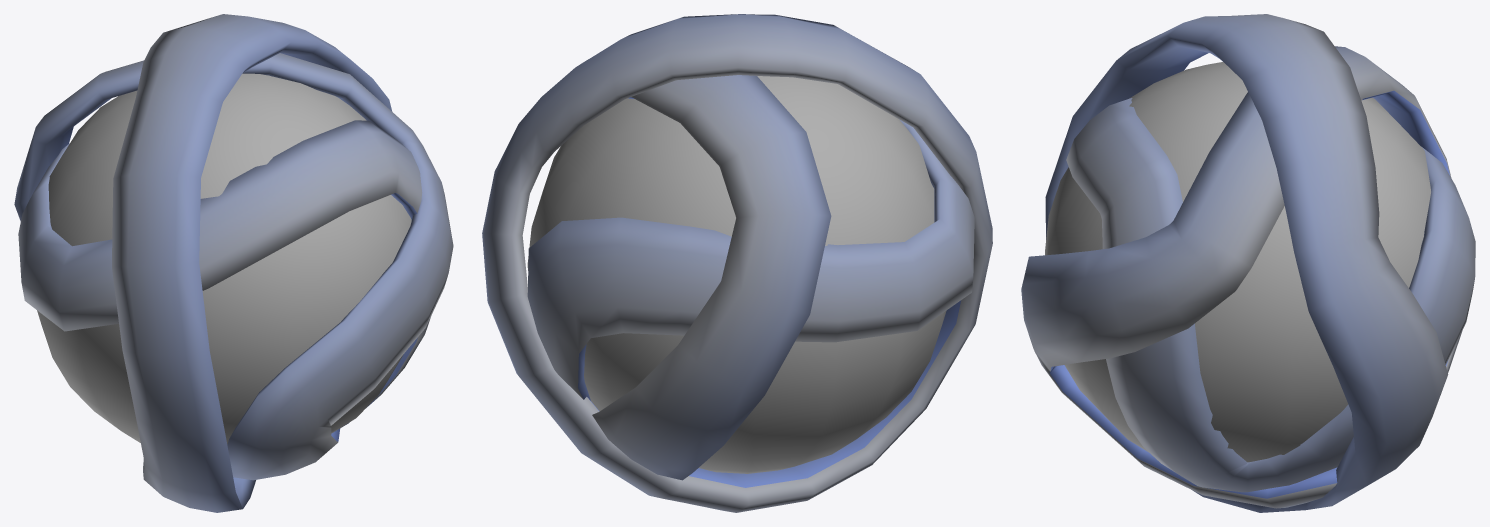
The model's file is SM_Ball_001.fbx.
3 renders of one model, left to right at view 1: azimuth 30°, elevation 25°; view 2: azimuth 150°, elevation 25°; view 3: azimuth 270°, elevation 25°, orthographic. The views are drawn at different scales.
Visible parts, largest first — view 1: Sphere.002; view 2: Sphere.002; view 3: Sphere.002.
Part boxes in pixels (x1,y1,x2,y2): Sphere.002: (14, 14, 453, 512); Sphere.002: (482, 14, 992, 512); Sphere.002: (1021, 14, 1475, 512).
Bounding box in the file's own units: 200 × 220 × 193.
